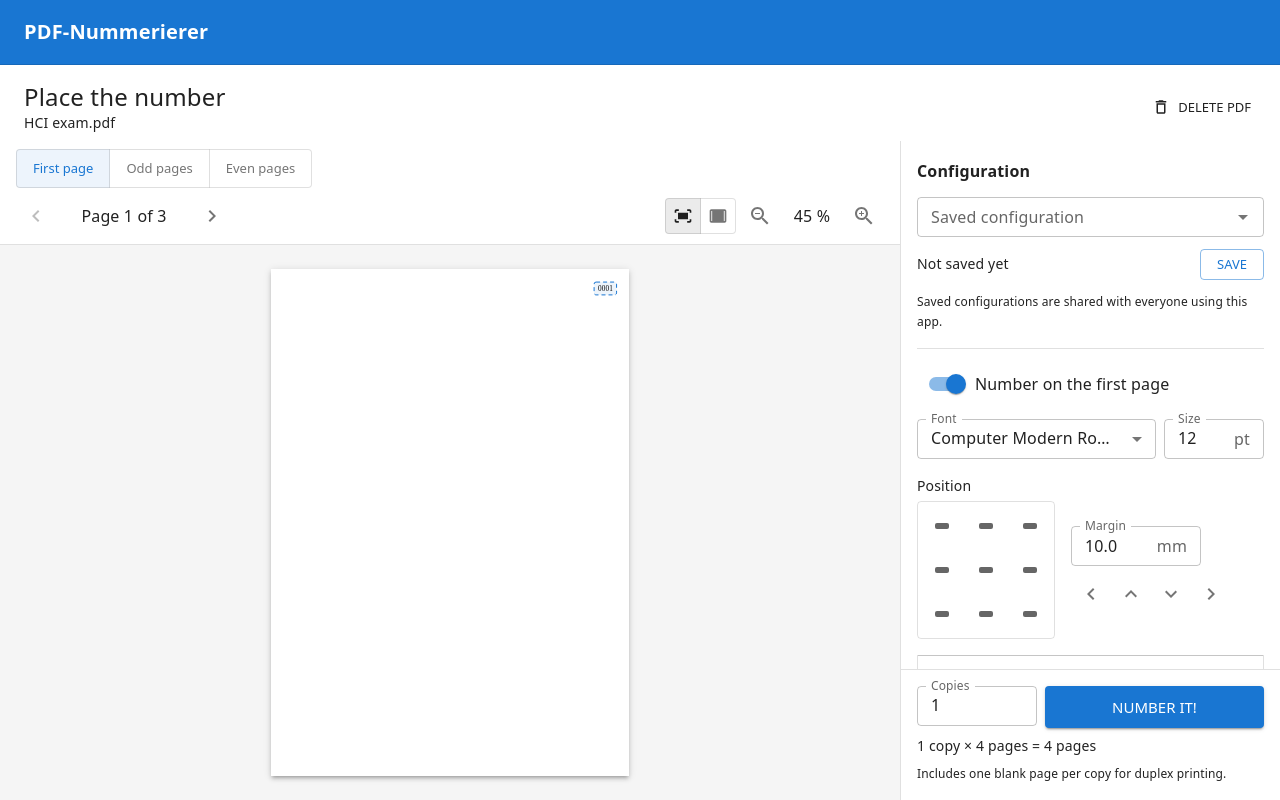
Test: numbers and copies › updates the summary with copies and the duplex switch
Check: the text "HCI exam.pdf" is shown, box 24,113 -> 115,132
Check: the button "Number it!" is enabled, box 1045,686 -> 1264,728
Clear the field labelled "Copies" at [977, 706], box 917,686 -> 1037,726
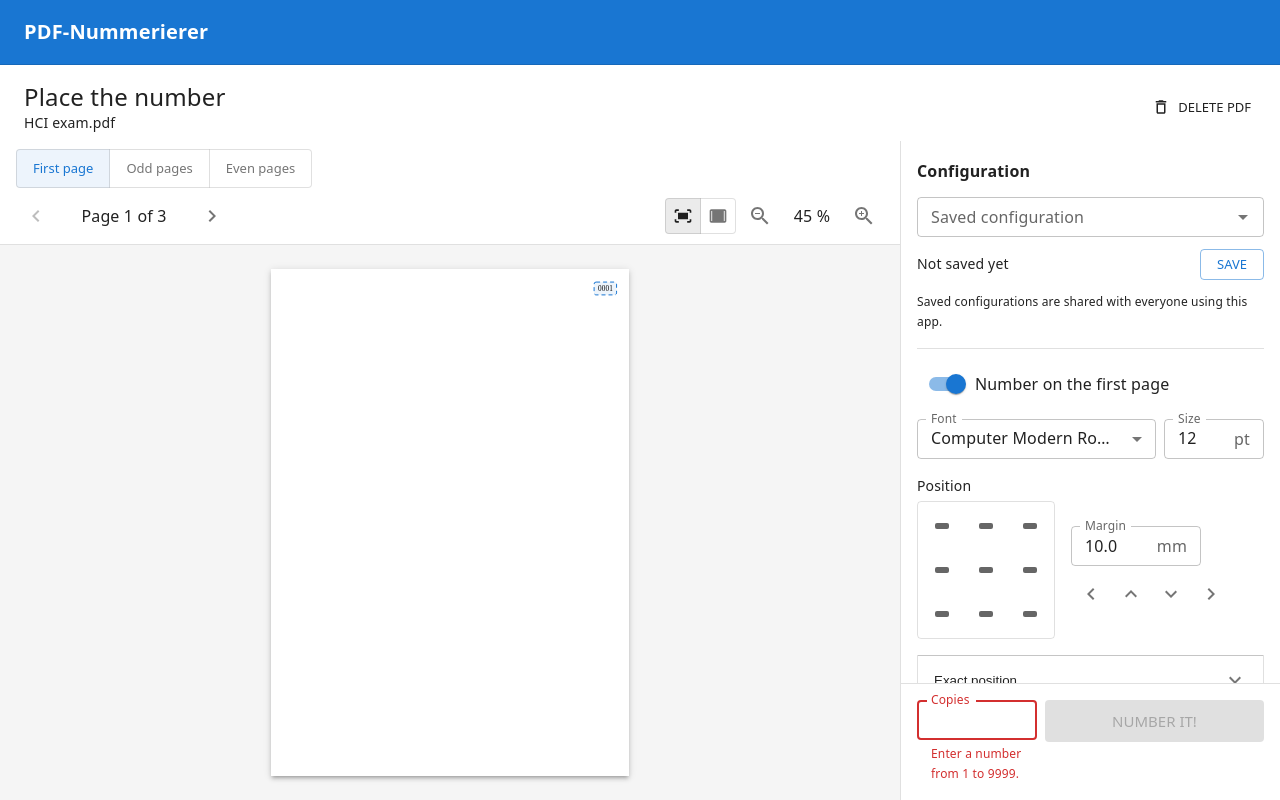
Type "30" into the field labelled "Copies" at [977, 720], box 917,700 -> 1037,740
(page scrolled)
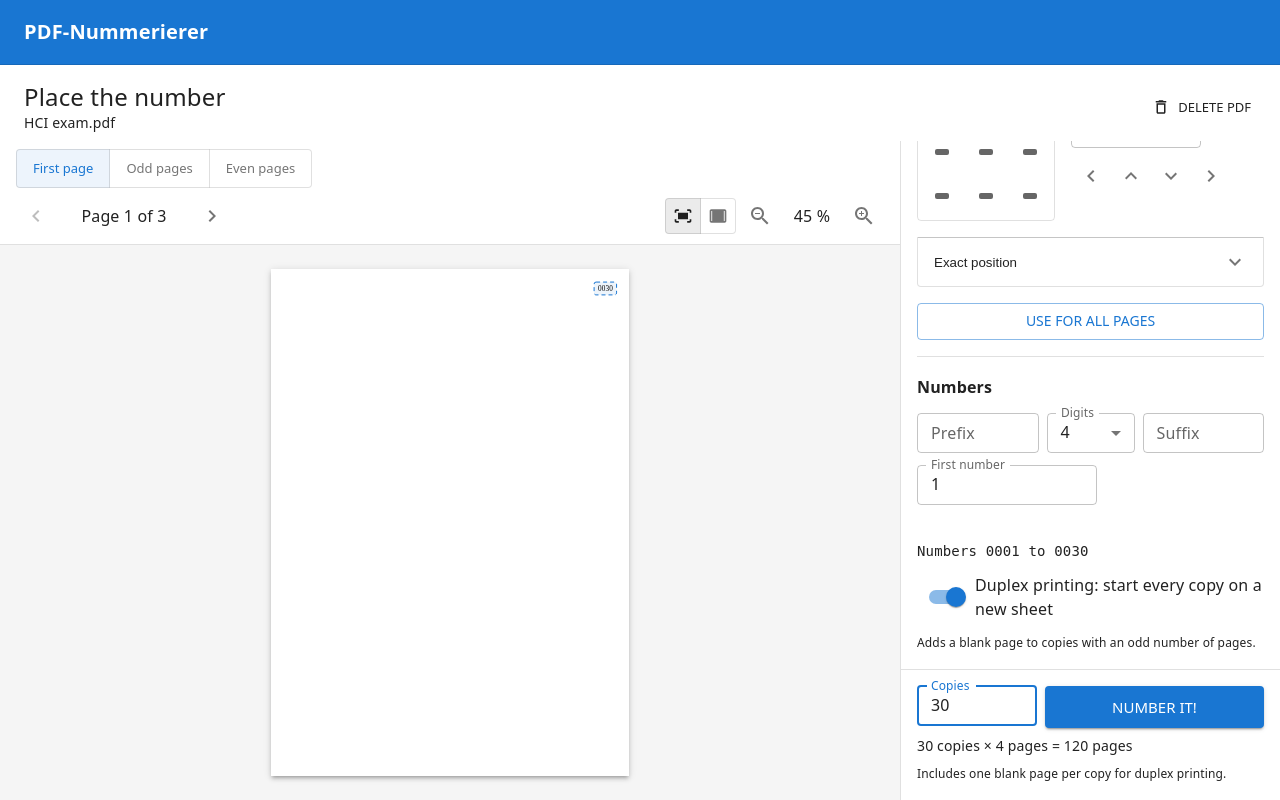
Click the switch labelled "Duplex printing: start every copy on a new sheet" at [1090, 597], box 917,573 -> 1264,621
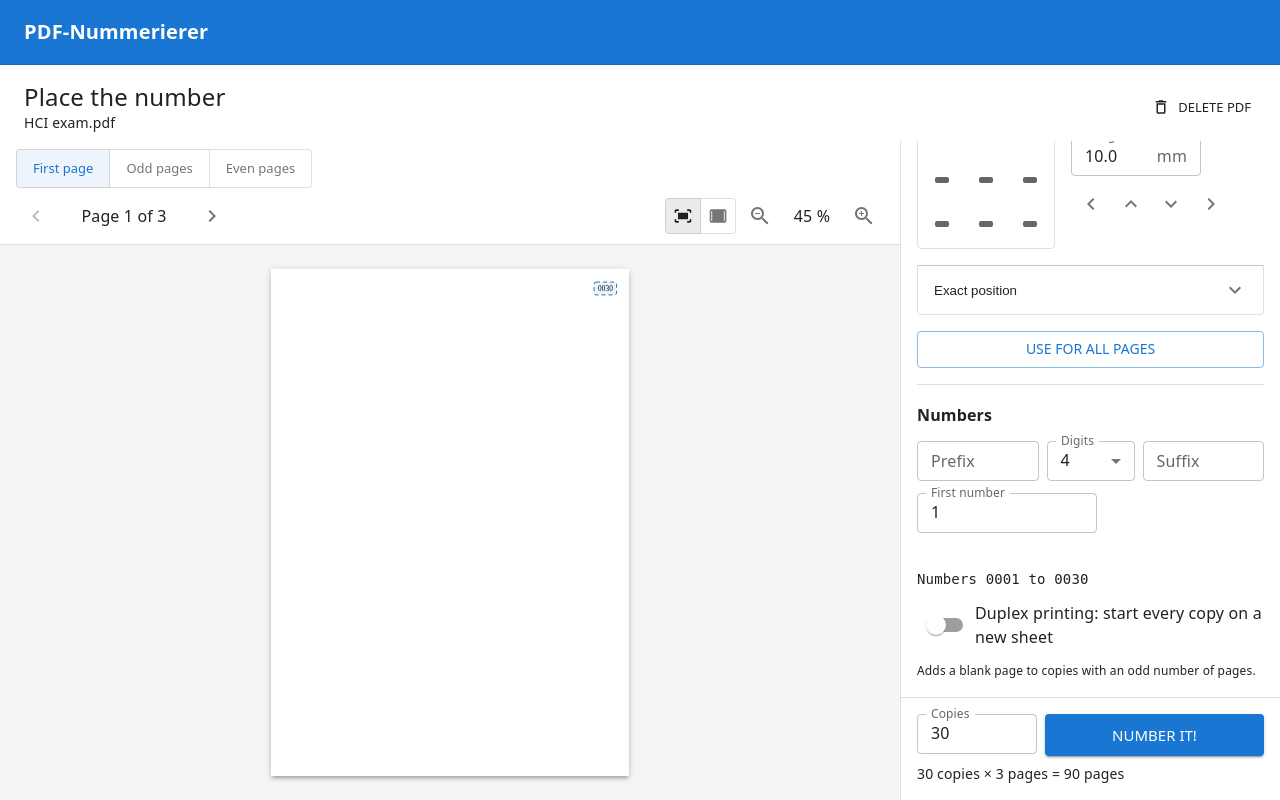
Check: the text "Includes one blank page per copy for duplex printing." is gone
